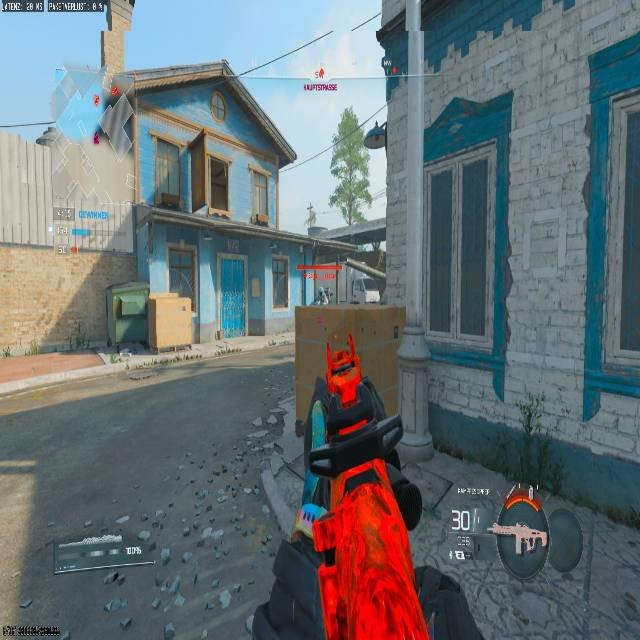head: (326, 336, 362, 401)
player: (320, 285, 333, 304)
